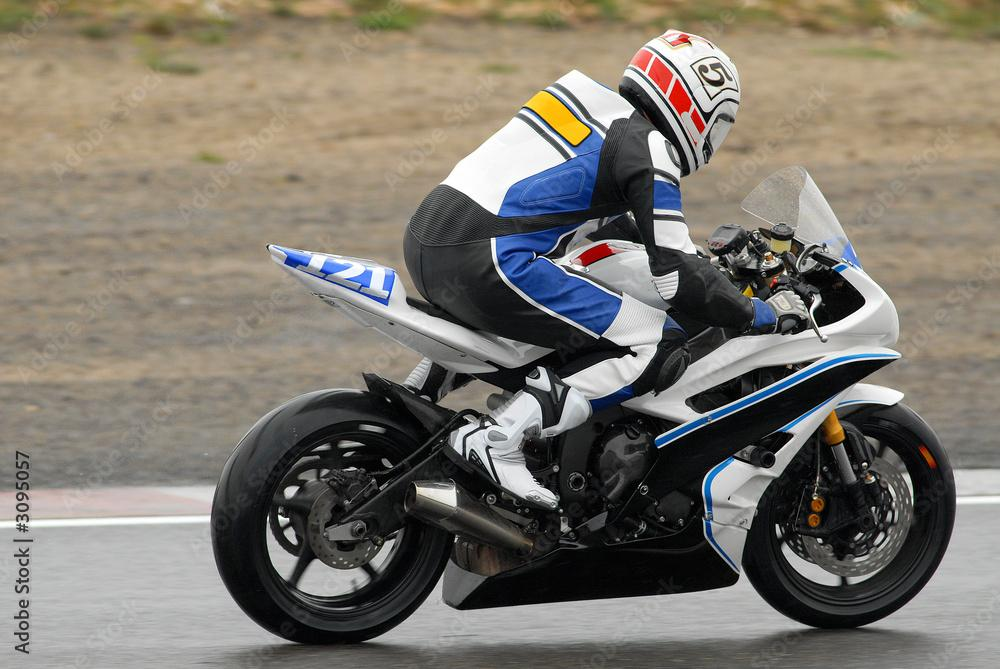helmet: (618, 27, 742, 180)
